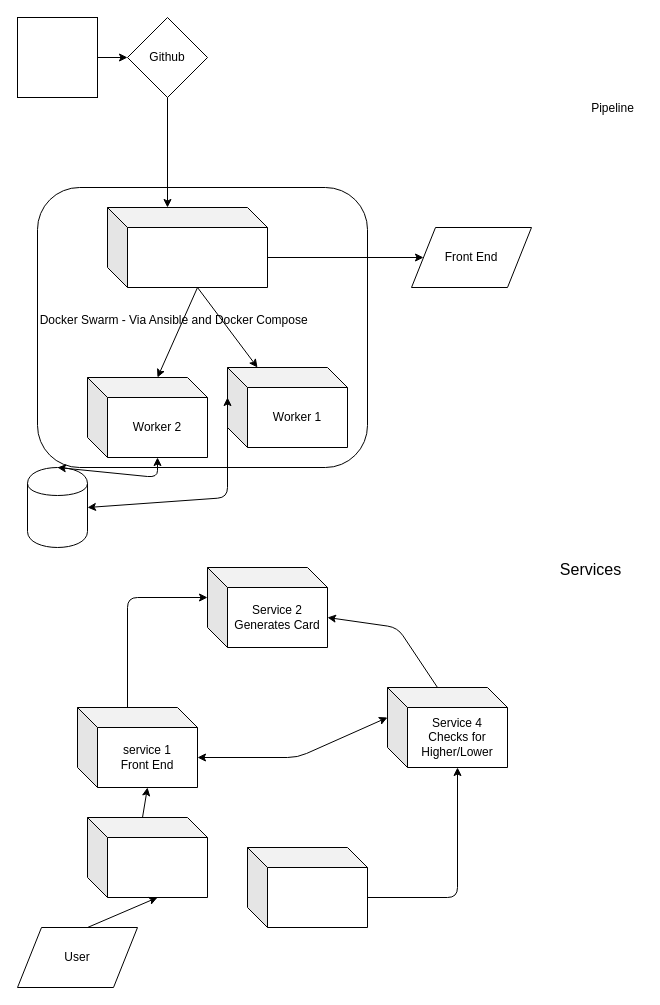
Some shapes in this 660 by 1005 pixel diagram are drawn without their labels. Here are the shapes that lost their labels. From the top down, the box of each, then its label:
(16, 16, 98, 98): Develop
(106, 206, 268, 288): Jenkins/Master/Manager
(26, 466, 88, 548): GCP DB
(86, 816, 208, 898): Nginx
(246, 846, 368, 928): service 3 Gives Points for Message
